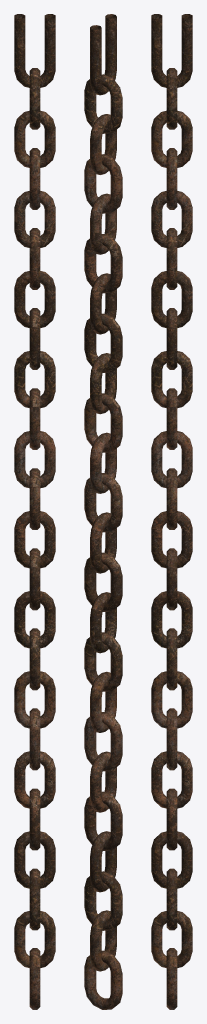
File: Chain.FBX
3 views of the same model, side by side, from view 1: azimuth 90°, elevation 25°; view 2: azimuth 150°, elevation 25°; view 3: azimuth 270°, elevation 25° (orthographic).
Parts seen in each view (by area): view 1: Chain; view 2: Chain; view 3: Chain.
Part boxes in pixels (box(x1,y1,x2,y2)): Chain: box(14, 14, 55, 1009); Chain: box(84, 14, 122, 1009); Chain: box(151, 14, 192, 1009).
Bounding box in the file's own units: 27.57 × 727 × 27.57.
